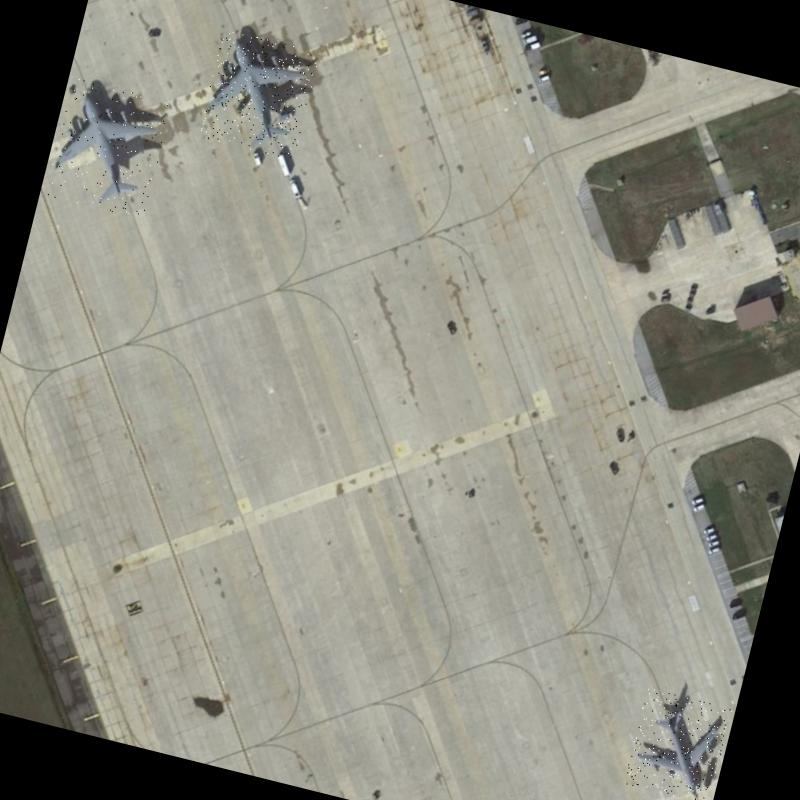A14: (622, 687, 732, 800)
A3: (44, 76, 172, 219), (197, 28, 320, 160)
